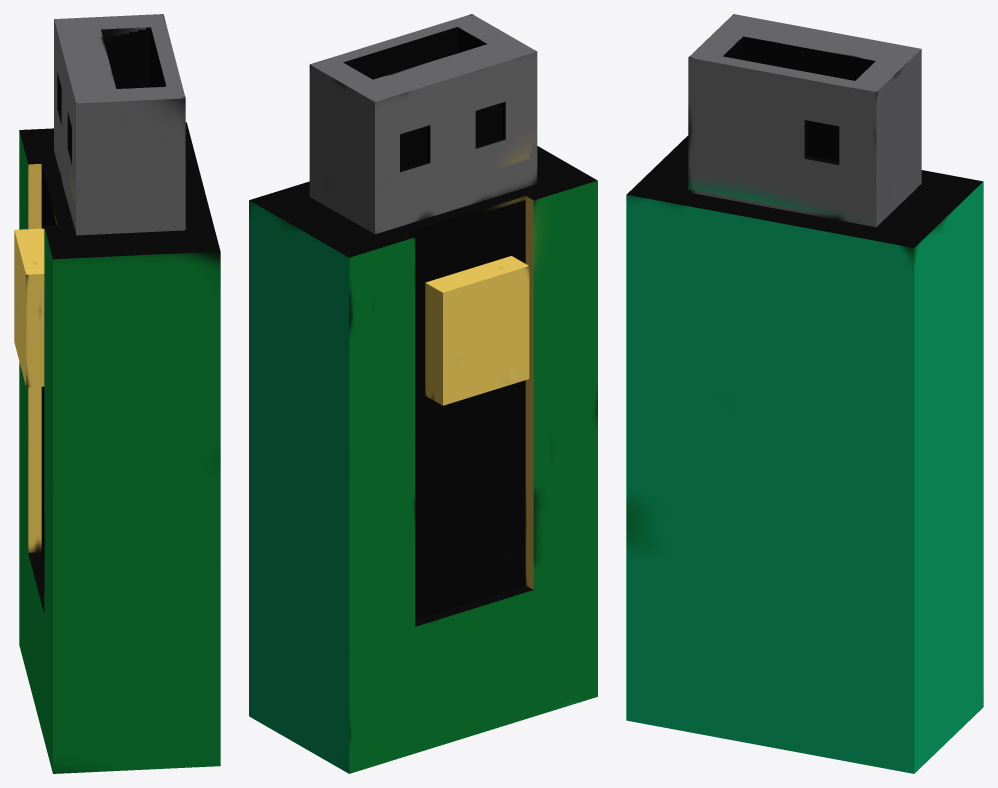
The model's file is Flash_Drive.fbx.
3 renders of one model, left to right at view 1: azimuth 30°, elevation 25°; view 2: azimuth 150°, elevation 25°; view 3: azimuth 270°, elevation 25°, orthographic. The views are drawn at different scales.
Parts seen in each view (by area): view 1: Cube; view 2: Cube; view 3: Cube.
Boxes of the visible parts, x1,y1,x2,y2 form: Cube: [14, 14, 220, 773]; Cube: [249, 14, 597, 773]; Cube: [626, 14, 983, 773].
Size of the model in its own units: 97.9 by 251 by 123.
Materials: 1 (1 with a texture image).
